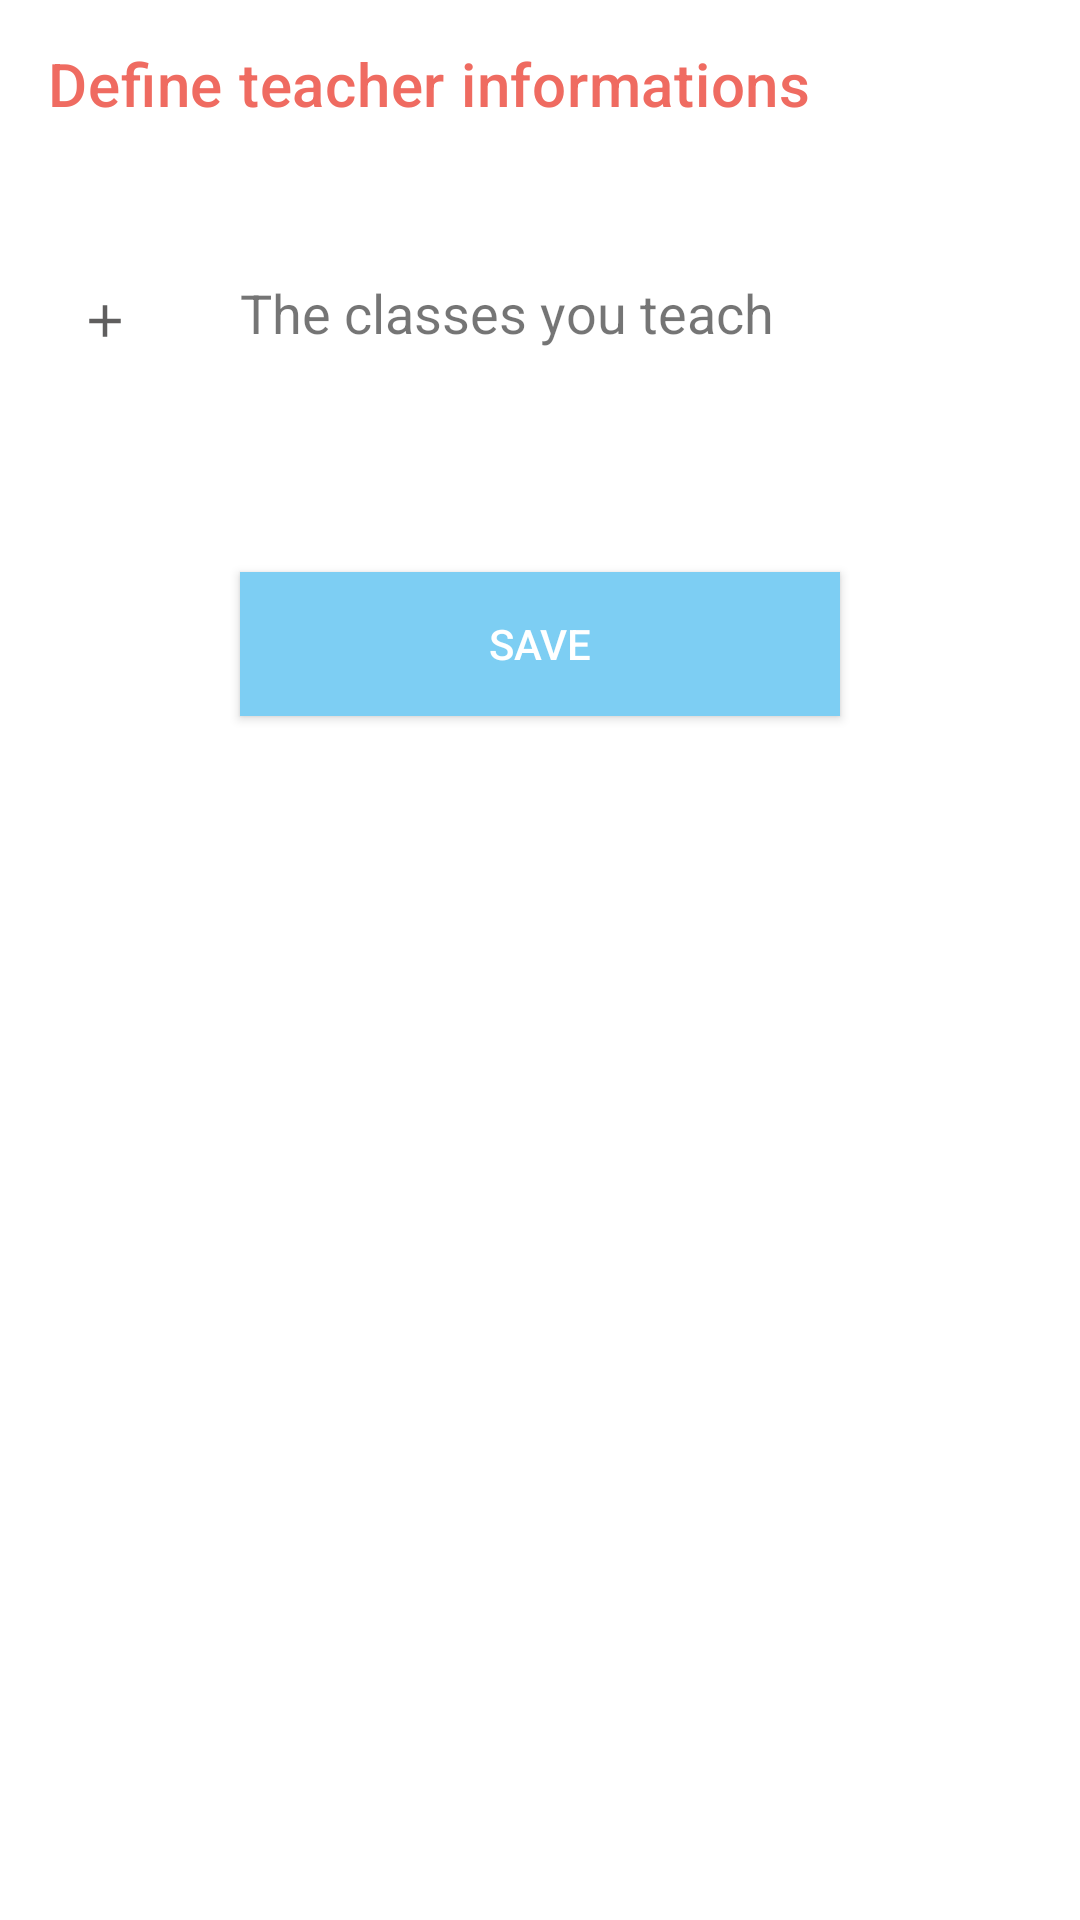

Icons on this 1080x1920 Android screen, each with the point to tap as (x,y):
add: (105,321)
